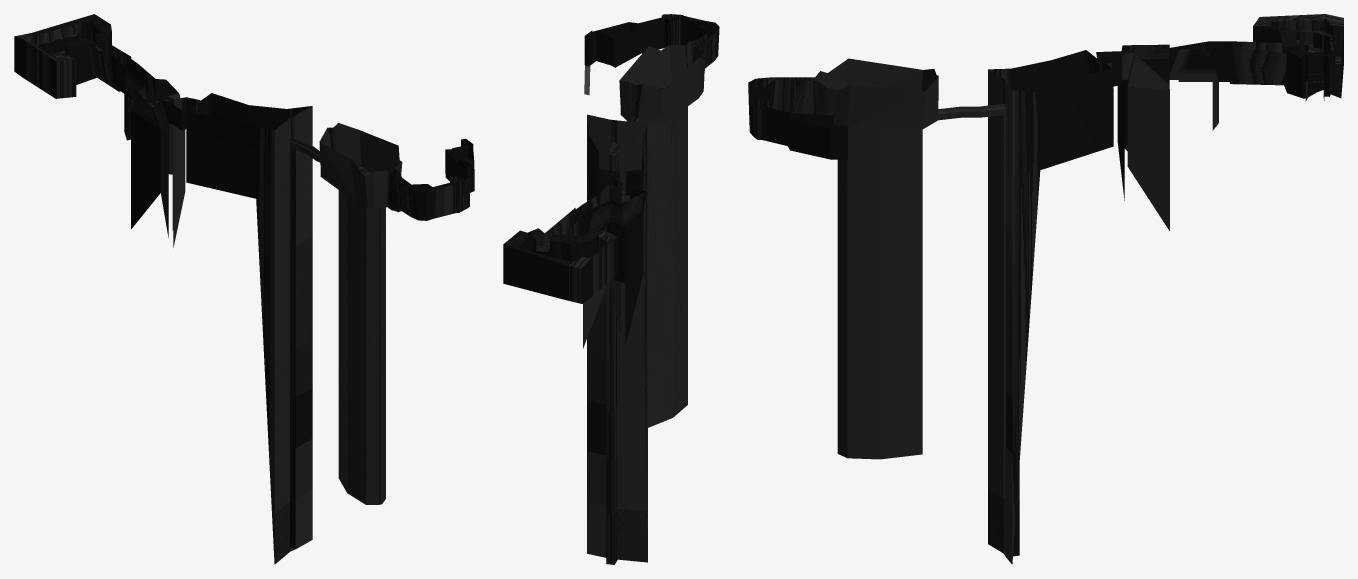
Rendered from Map.glb.
3 renders of one model, left to right at view 1: azimuth 30°, elevation 25°; view 2: azimuth 150°, elevation 25°; view 3: azimuth 270°, elevation 25°, orthographic. The views are drawn at different scales.
Visible parts, largest first — view 1: Cube; view 2: Cube; view 3: Cube.
Part boxes in pixels (x1=…): Cube: x1=14, y1=14, x2=474, y2=564; Cube: x1=503, y1=14, x2=719, y2=564; Cube: x1=748, y1=14, x2=1343, y2=564.
Size of the model in its own units: 489 by 934 by 1024.
4 materials, 1 textured.
